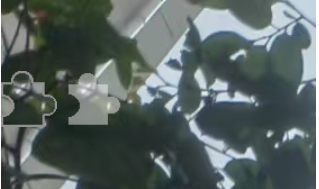target: (63, 70, 121, 129)
